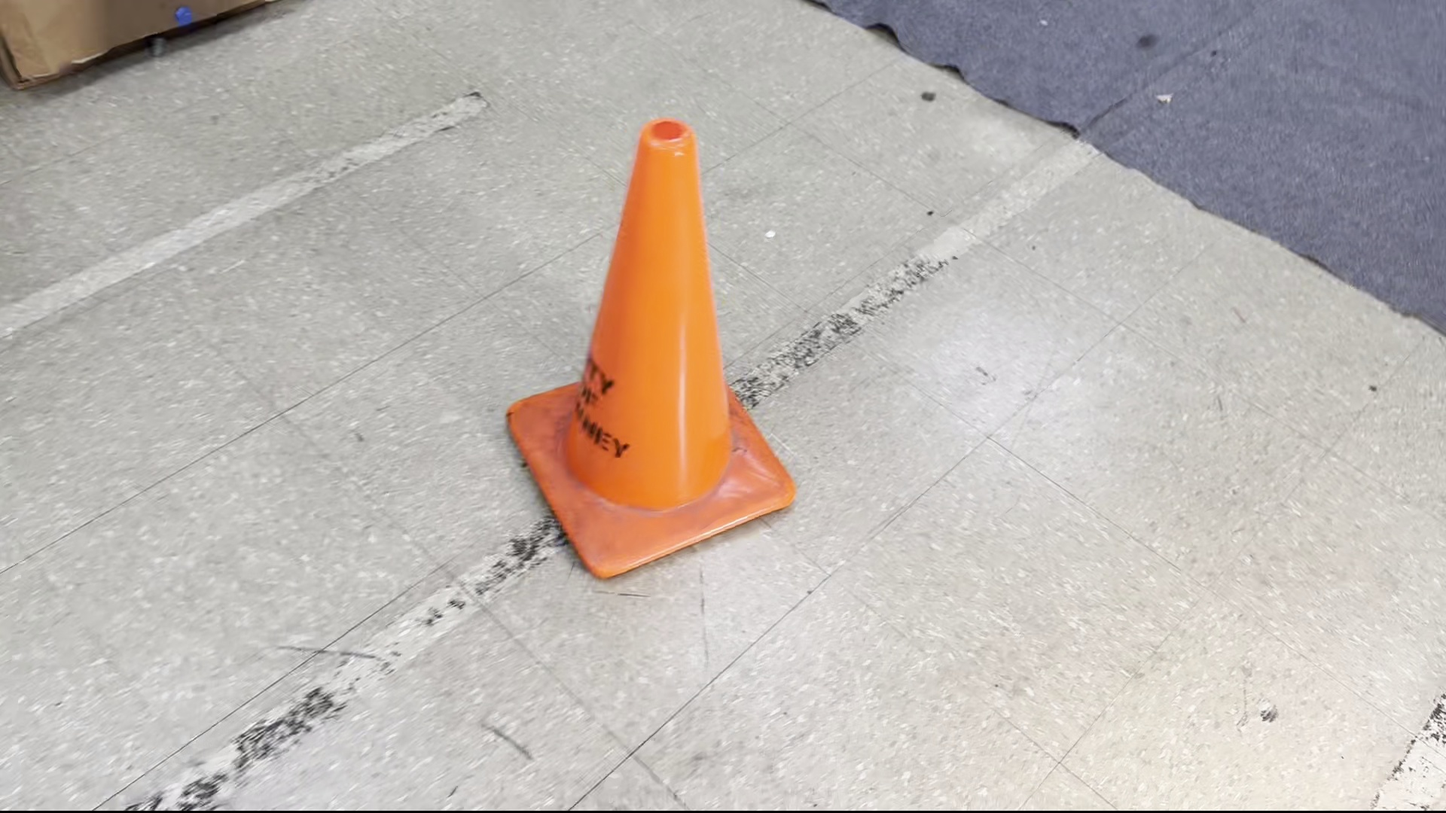traffic_cone: (505, 117, 797, 581)
